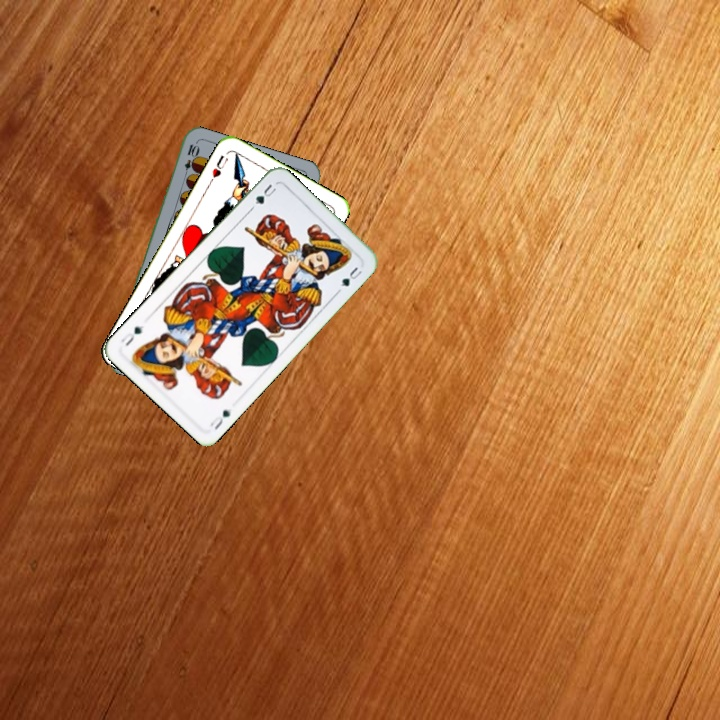E10: (180, 140, 200, 180)
GU: (247, 180, 279, 212), (206, 406, 234, 432)
HU: (205, 151, 231, 186)
